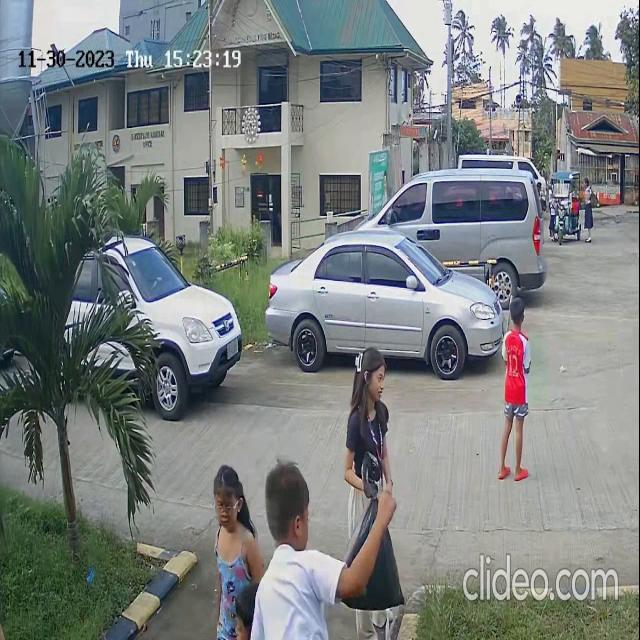garbage: (338, 508, 410, 612)
person: (347, 347, 400, 640), (206, 464, 257, 640), (499, 295, 531, 484), (580, 171, 600, 246)
